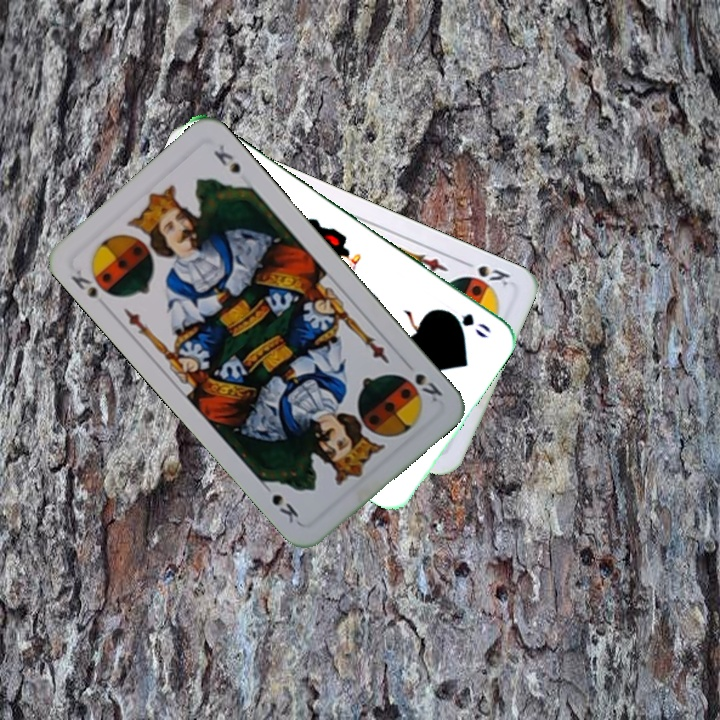GO: (438, 305, 494, 341)
SK: (400, 356, 446, 405), (457, 256, 514, 289), (67, 261, 100, 302)
